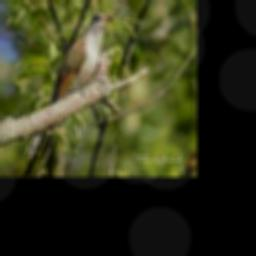Cuckoo: (25, 12, 112, 162)
